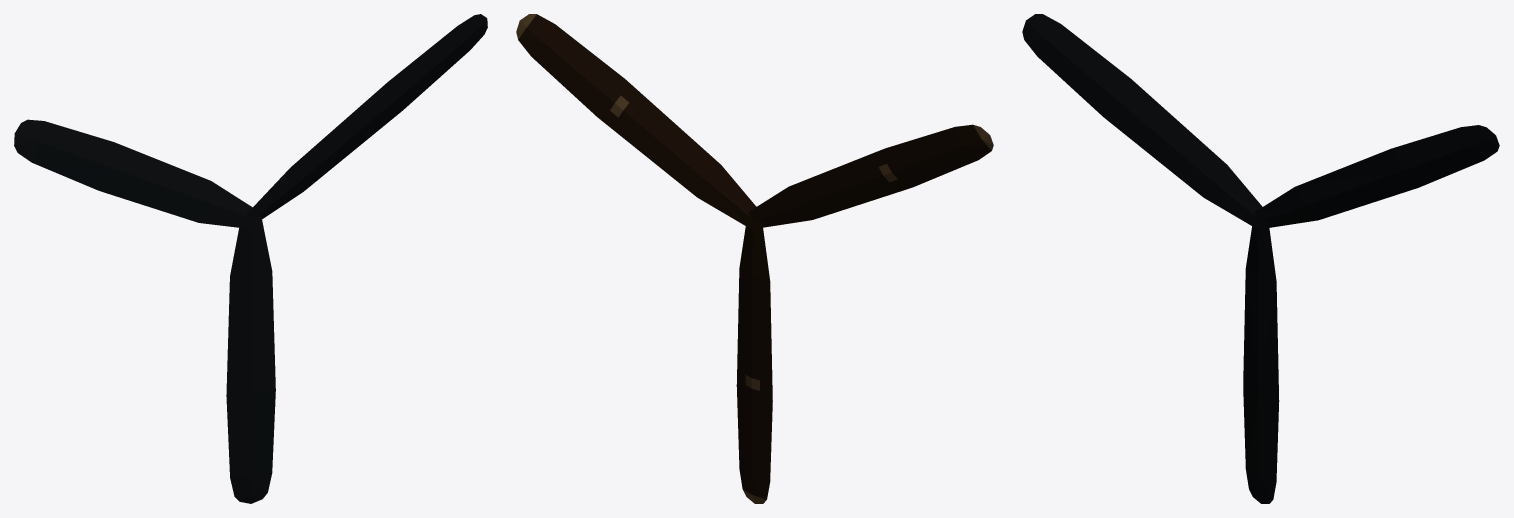
The model's file is Prop_KI61II.obj.
3 renders of one model, left to right at view 1: azimuth 30°, elevation 25°; view 2: azimuth 150°, elevation 25°; view 3: azimuth 330°, elevation 25°, orthographic.
Parts seen in each view (by area): view 1: ShapeIndexedFaceSet.132_ShapeIndexedFaceSet.133; view 2: ShapeIndexedFaceSet.134_ShapeIndexedFaceSet.135, ShapeIndexedFaceSet.133_ShapeIndexedFaceSet.134; view 3: ShapeIndexedFaceSet.132_ShapeIndexedFaceSet.133.
Boxes of the visible parts, bbox=[...] form: ShapeIndexedFaceSet.132_ShapeIndexedFaceSet.133: bbox=[14, 14, 487, 503]; ShapeIndexedFaceSet.134_ShapeIndexedFaceSet.135: bbox=[518, 14, 991, 499]; ShapeIndexedFaceSet.133_ShapeIndexedFaceSet.134: bbox=[516, 14, 993, 503]; ShapeIndexedFaceSet.132_ShapeIndexedFaceSet.133: bbox=[1022, 14, 1499, 503].
Bounding box in the file's own units: 28.54 × 24.97 × 0.6851.
